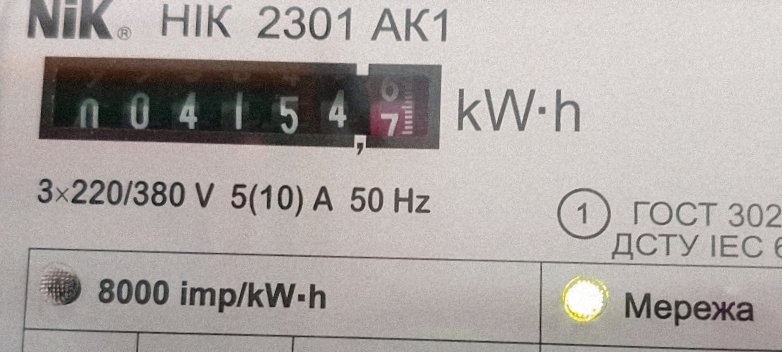0: (127, 89, 151, 131), (77, 93, 100, 128)
1: (231, 89, 246, 131)
4: (176, 89, 200, 131), (326, 85, 348, 129)
5: (276, 90, 301, 135)
6: (378, 72, 401, 103)
7: (377, 108, 399, 138)
screen: (22, 36, 459, 166)
